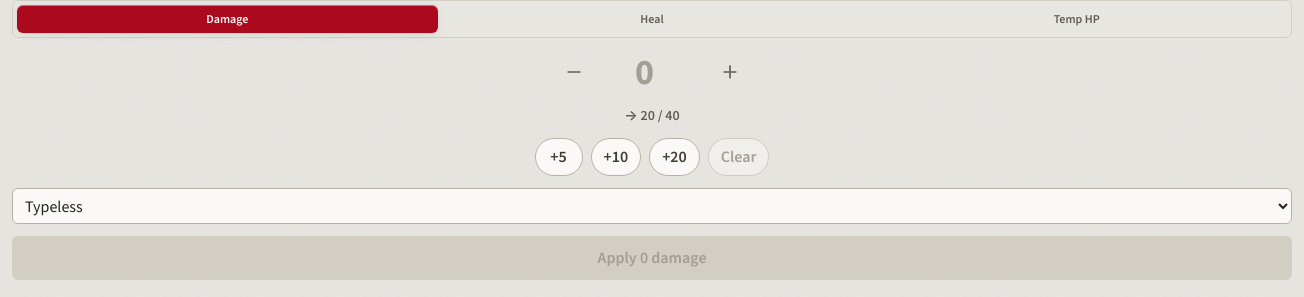
Scenario: HpActionControl accumulator chips (#796) › Clear resets the pending amount to 0 and disables Apply
The image size is (1304, 297).
What coordinates should you click on to do the following:
click the button named "Add 20"
I would click on:
 (674, 157)
Its box is [649,138,700,176].
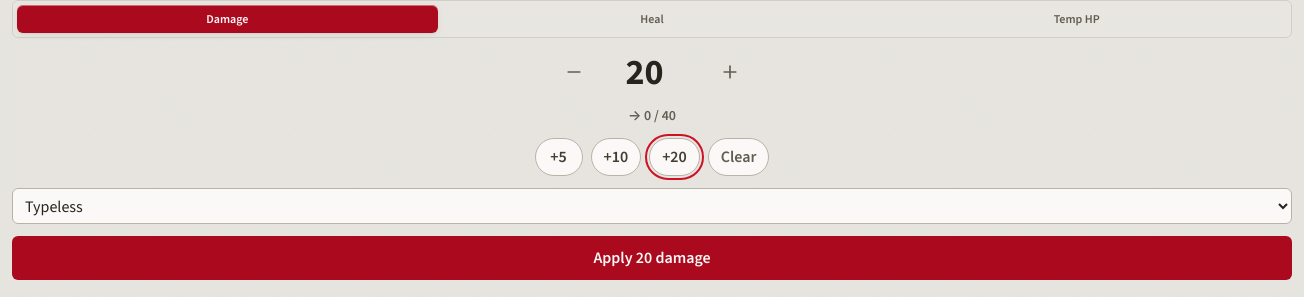
What coordinates should you click on to do the following:
click the button with aria-label "Clear amount"
I would click on:
 (739, 157)
Its box is [708,138,770,176].
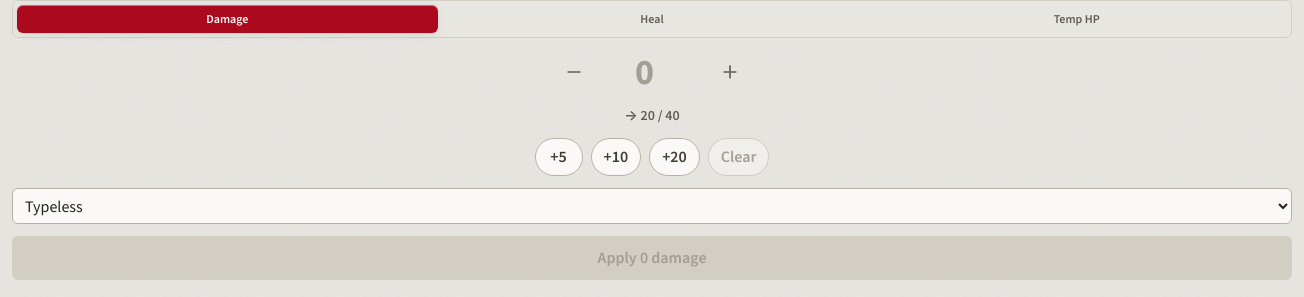
Expected: the button "Apply 0 damage" is disabled, [12,236,1292,280]
